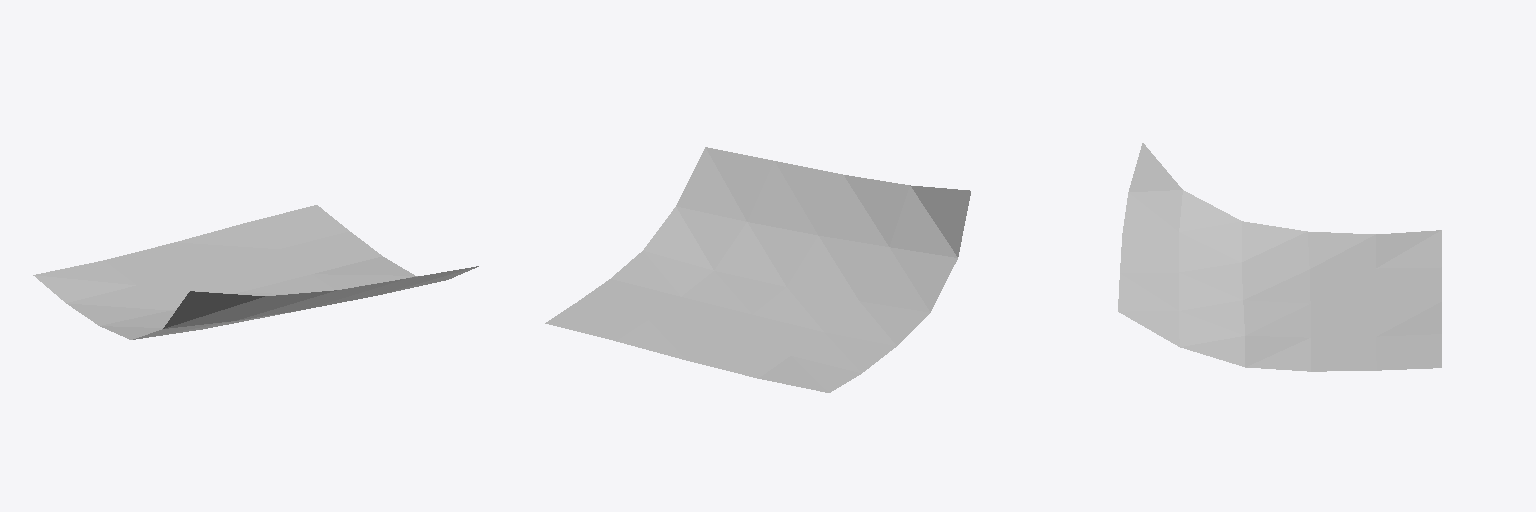
The model's file is StickyNote.obj.
3 views of the same model, side by side, from view 1: azimuth 30°, elevation 25°; view 2: azimuth 150°, elevation 25°; view 3: azimuth 270°, elevation 25° (orthographic).
Parts seen in each view (by area): view 1: sticky_note, sticky_note.001; view 2: sticky_note, sticky_note.001; view 3: sticky_note, sticky_note.001.
Boxes of the visible parts, x1=… form: sticky_note: x1=33, y1=205, x2=478, y2=339; sticky_note.001: x1=36, y1=205, x2=474, y2=339; sticky_note: x1=546, y1=147, x2=970, y2=392; sticky_note.001: x1=545, y1=148, x2=970, y2=391; sticky_note: x1=1118, y1=143, x2=1441, y2=371; sticky_note.001: x1=1118, y1=144, x2=1441, y2=371.
Size of the model in its own units: 0.076 by 0.0243 by 0.0742.